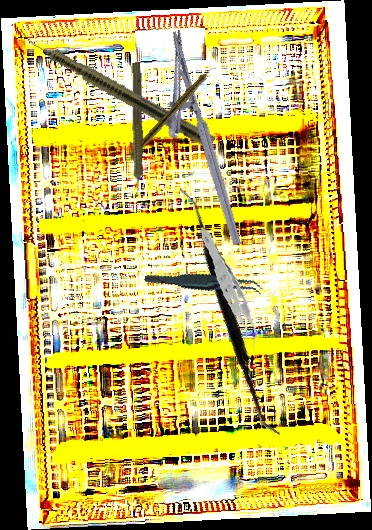Handpiece: (12, 25, 218, 151), (138, 63, 218, 150), (126, 62, 146, 199)
Needle Holder: (141, 29, 243, 255)
Spatula Surgical: (97, 186, 363, 437)
Tissue Forceps: (185, 227, 270, 354), (143, 249, 265, 317)
